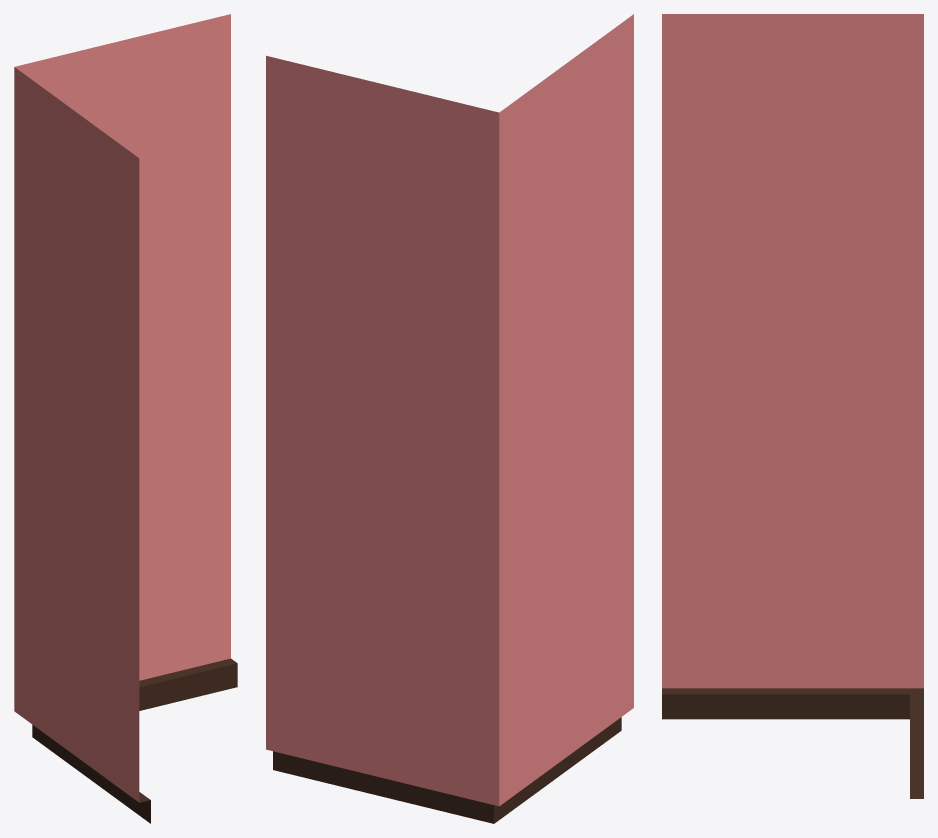
File: SM_Coin_Int_1x1.fbx
3 renders of one model, left to right at view 1: azimuth 30°, elevation 25°; view 2: azimuth 150°, elevation 25°; view 3: azimuth 270°, elevation 25°, orthographic. The views are drawn at different scales.
Visible parts, largest first — view 1: SM_Coin_Int_1x1; view 2: SM_Coin_Int_1x1; view 3: SM_Coin_Int_1x1.
Boxes of the visible parts, bbox=[...] form: SM_Coin_Int_1x1: bbox=[14, 14, 237, 823]; SM_Coin_Int_1x1: bbox=[266, 14, 633, 823]; SM_Coin_Int_1x1: bbox=[662, 14, 923, 798].
Bounding box in the file's own units: 0.95 × 2.8 × 0.95.
